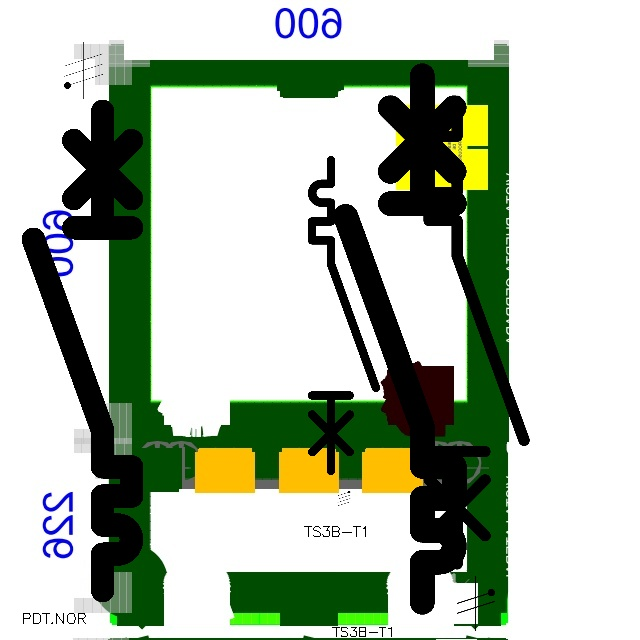interruptor_termomagnetico: (332, 62, 468, 616), (21, 98, 144, 602), (417, 89, 536, 576), (304, 152, 384, 479)
